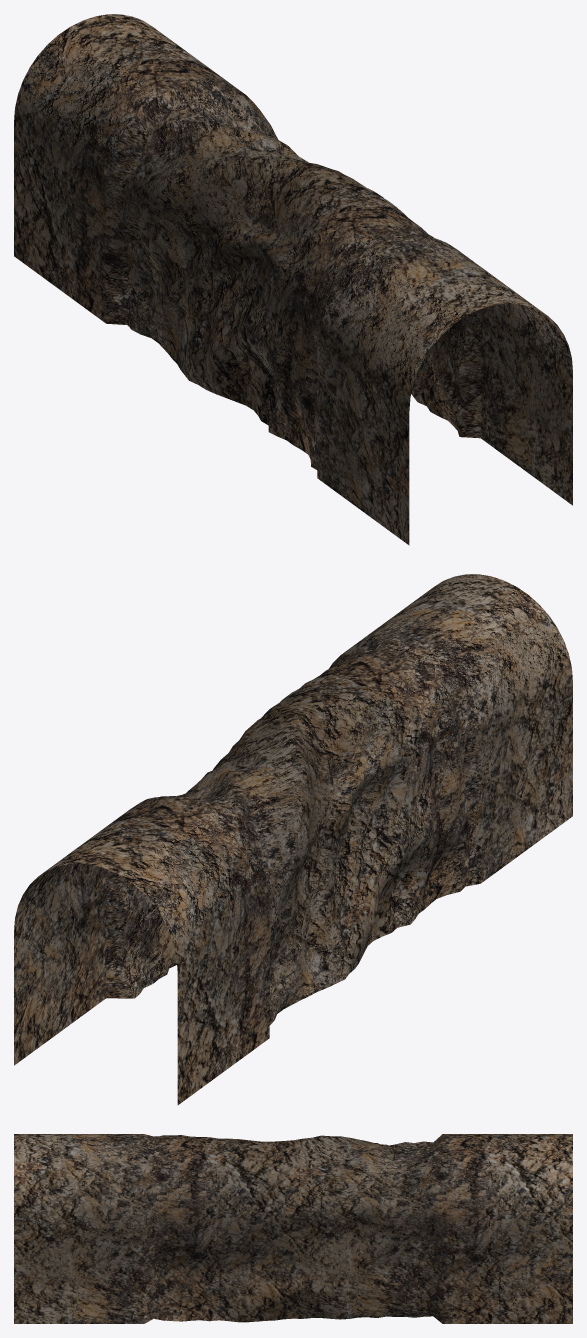
The model's file is rock_tunnel_straight_16.DAE.
3 renders of one model, top to bottom at view 1: azimuth 30°, elevation 25°; view 2: azimuth 150°, elevation 25°; view 3: azimuth 270°, elevation 25°, orthographic. The views are drawn at different scales.
Parts seen in each view (by area): view 1: Plane001; view 2: Plane001; view 3: Plane001.
Part boxes in pixels (bbox=[...]): Plane001: bbox=[14, 14, 572, 545]; Plane001: bbox=[14, 574, 572, 1105]; Plane001: bbox=[14, 1134, 572, 1323].
Bounding box in the file's own units: 3.82 × 4.91 × 16.
